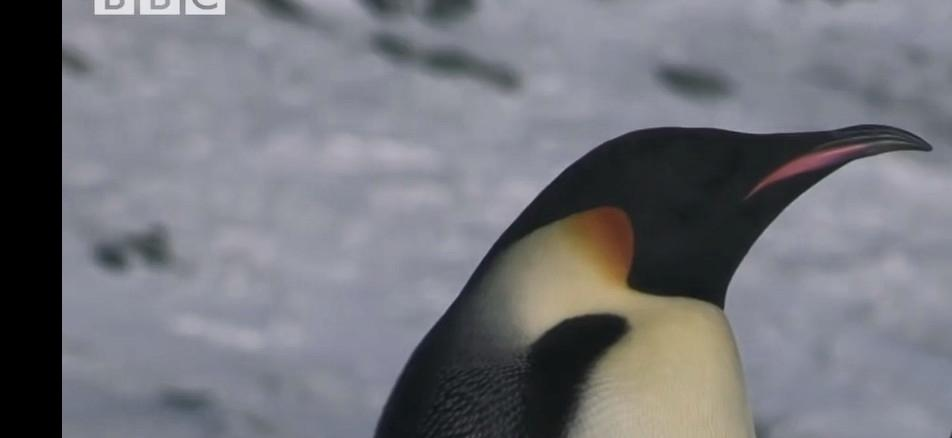Emperor Penguin: (268, 110, 950, 438), (836, 90, 952, 438)
